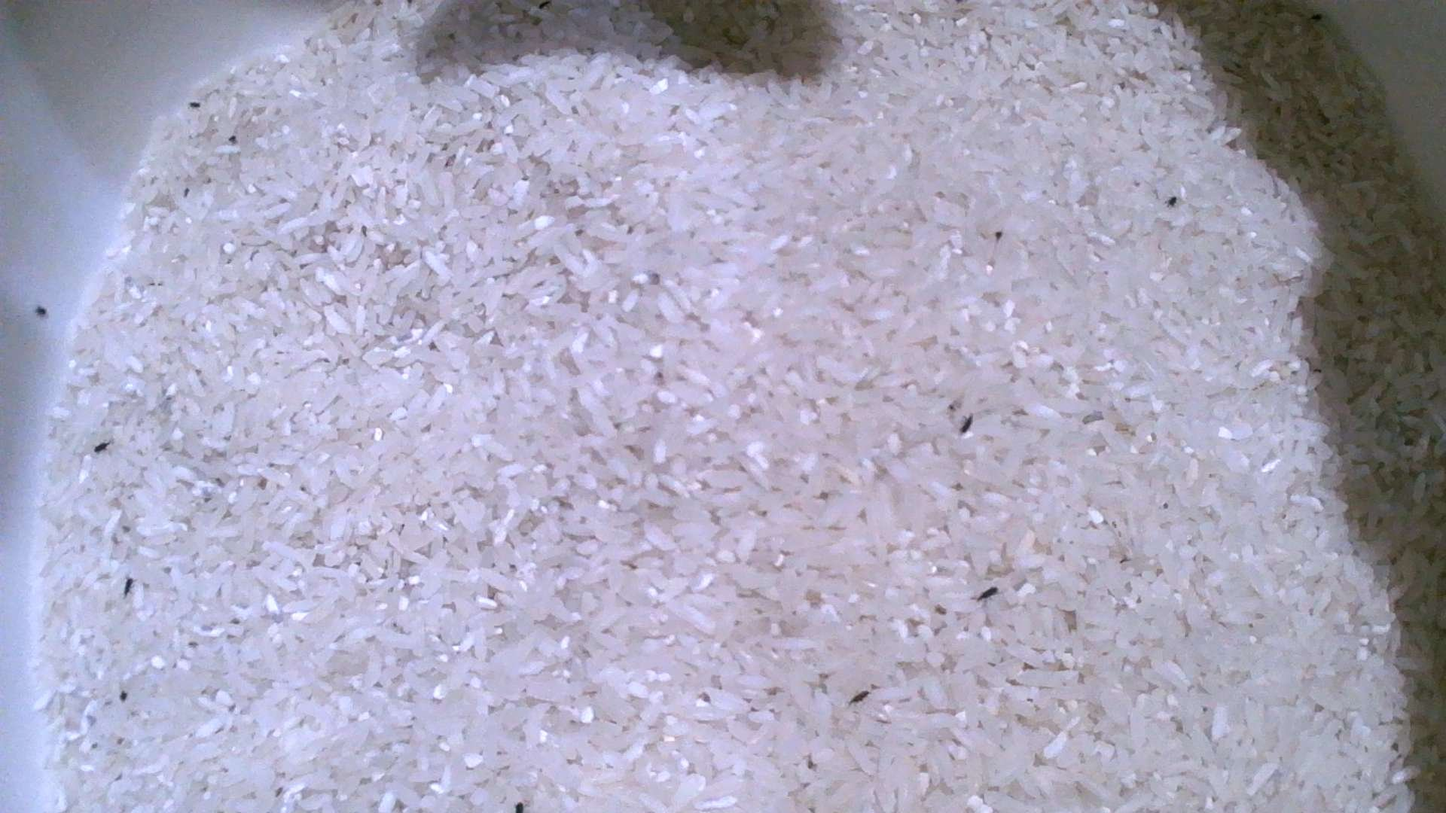Sitophilus-Oryzae: (959, 414, 975, 434), (849, 690, 871, 704), (977, 586, 999, 600), (123, 577, 134, 595), (93, 440, 108, 452), (34, 305, 47, 318)
